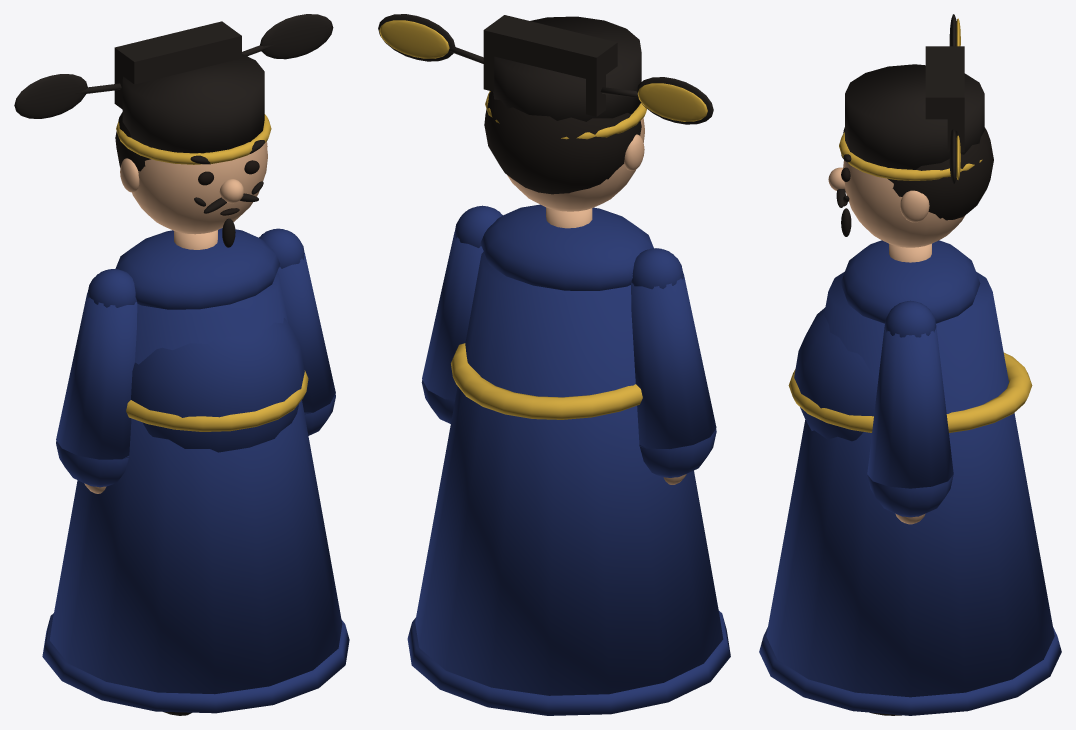
The model's file is villager_quan_huyen.glb.
The picture shows the model from 3 angles, left to right: view 1: azimuth 30°, elevation 25°; view 2: azimuth 150°, elevation 25°; view 3: azimuth 270°, elevation 25°; orthographic projection. The views are drawn at different scales.
Parts seen in each view (by area): view 1: Body, Head, ArmL, ArmR; view 2: Body, Head, ArmL, ArmR; view 3: Body, Head, ArmR.
Boxes of the visible parts, box(x1,y1,x2,y2) form: Body: box(42, 228, 349, 713); Head: box(14, 14, 333, 247); ArmL: box(56, 269, 137, 493); ArmR: box(259, 228, 335, 435); Body: box(407, 204, 730, 715); Head: box(378, 14, 713, 211); ArmL: box(631, 248, 716, 484); ArmR: box(421, 205, 502, 423); Body: box(759, 240, 1061, 715); Head: box(828, 14, 993, 247); ArmR: box(867, 300, 953, 524).
Size of the model in its own units: 0.832 by 1.59 by 0.7.
